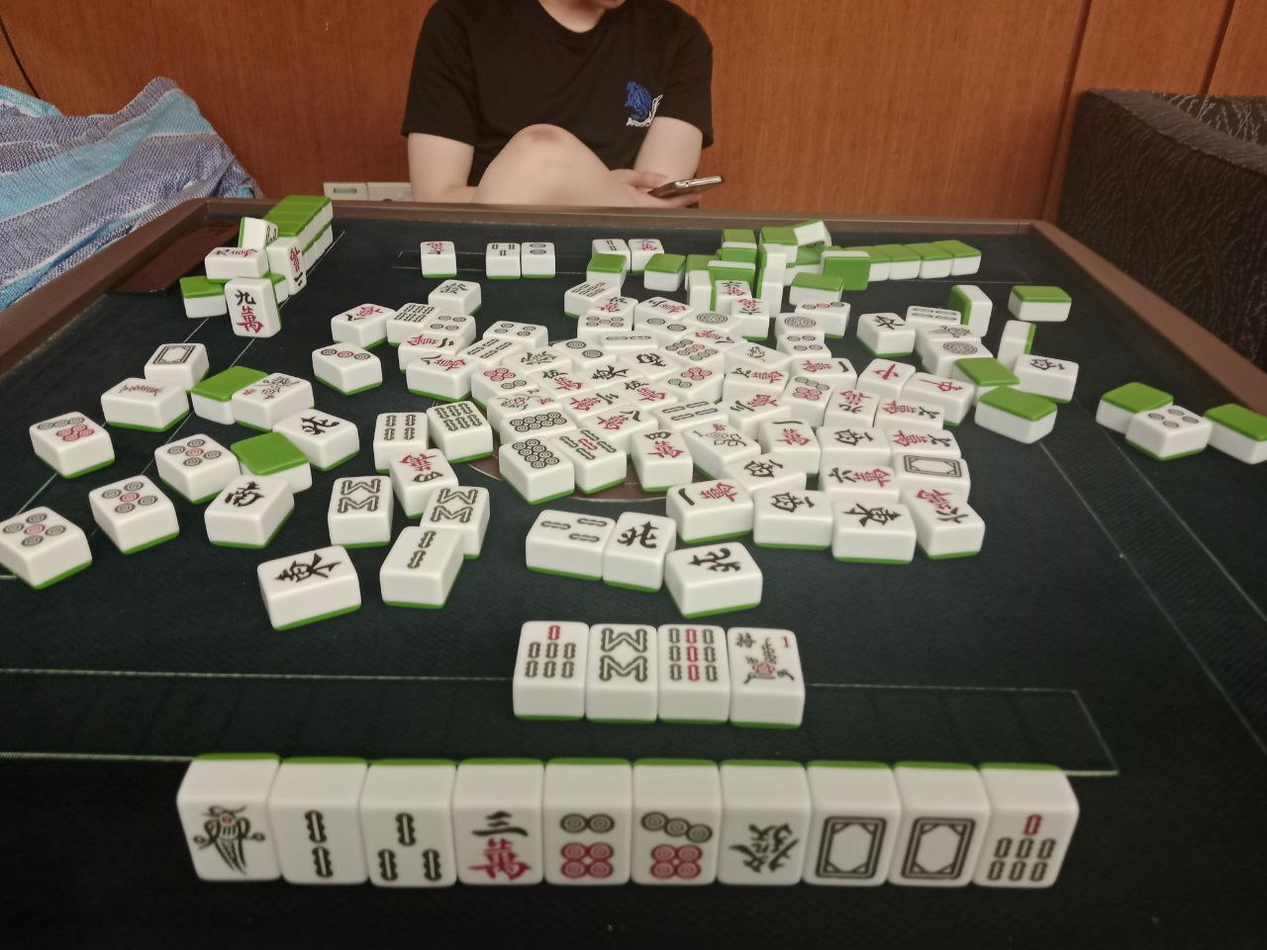TILE: (176, 802, 278, 877), (273, 806, 366, 883), (451, 811, 545, 884), (631, 807, 723, 881), (901, 804, 982, 888), (364, 809, 454, 884), (812, 805, 897, 884), (989, 806, 1070, 887), (725, 805, 810, 882), (544, 811, 631, 881), (730, 625, 810, 695), (513, 618, 587, 688), (655, 621, 730, 686), (588, 623, 654, 691)
